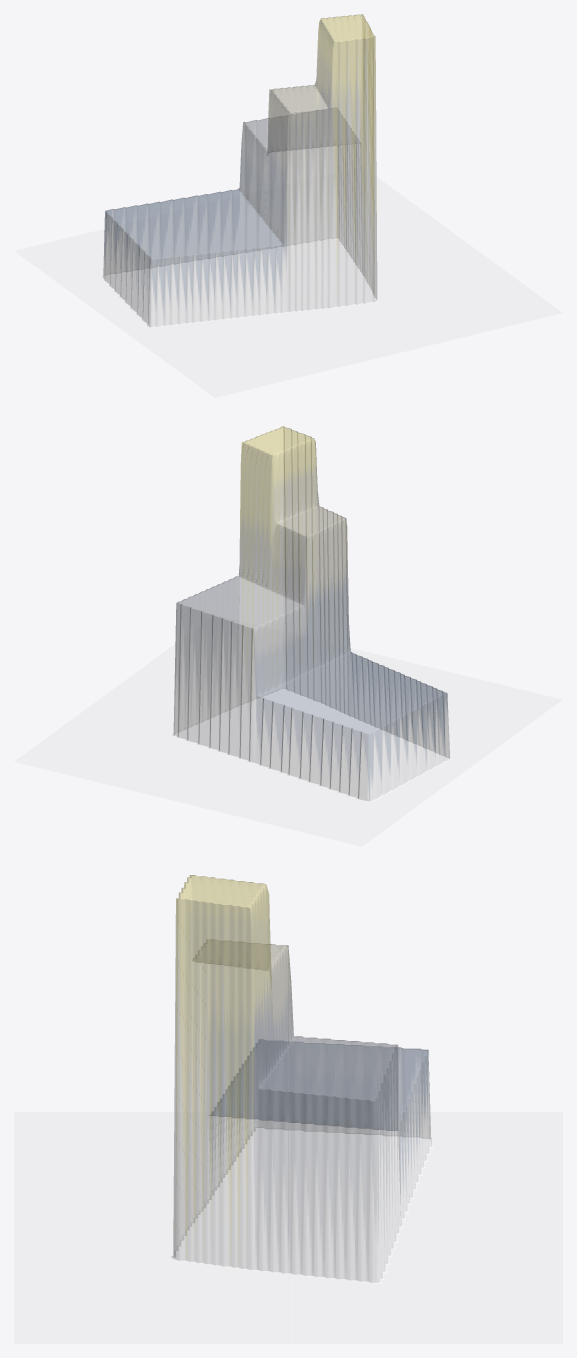
The picture shows the model from 3 angles, top to bottom: view 1: azimuth 30°, elevation 25°; view 2: azimuth 150°, elevation 25°; view 3: azimuth 270°, elevation 25°; orthographic projection. The views are drawn at different scales.
Parts seen in each view (by area): view 1: Grid; view 2: Grid; view 3: Grid.
Boxes of the visible parts, box(x1,y1,x2,y2) form: Grid: box(15, 14, 561, 397); Grid: box(14, 426, 561, 846); Grid: box(14, 875, 562, 1343).
Bounding box in the file's own units: 2.77 × 2 × 2.77.
Materials: 1 (1 with a texture image).
